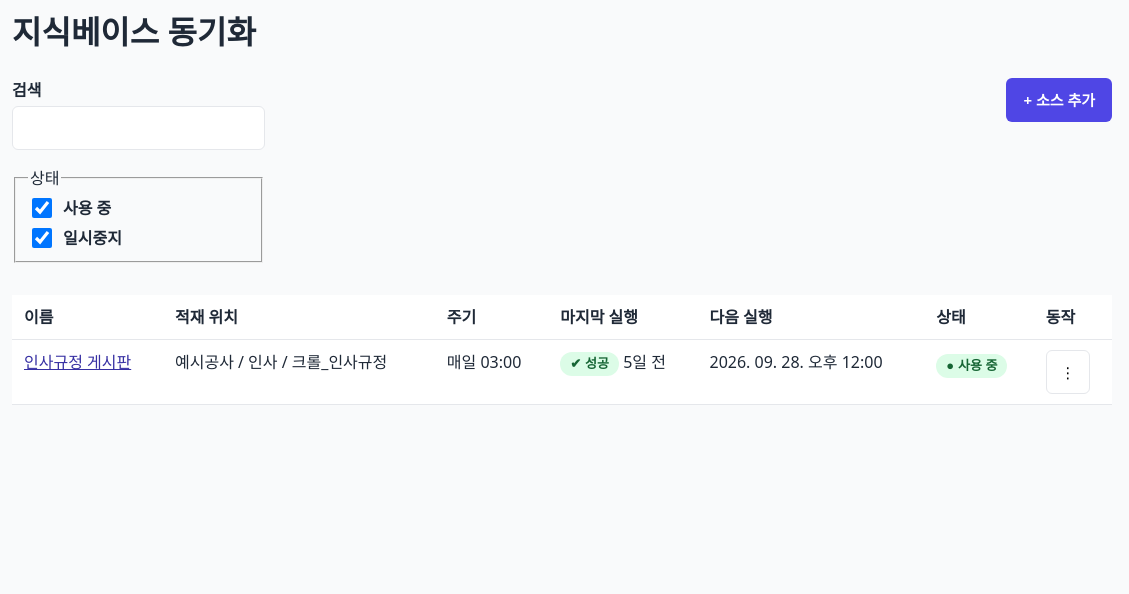
Test: KbSourcesPage › 실행 중인 소스(activeRun 있음)는 케밥 메뉴에서 삭제 항목이 비활성화된다
Click the button named "관리" at (1068, 372), box [1046,350,1090,394]
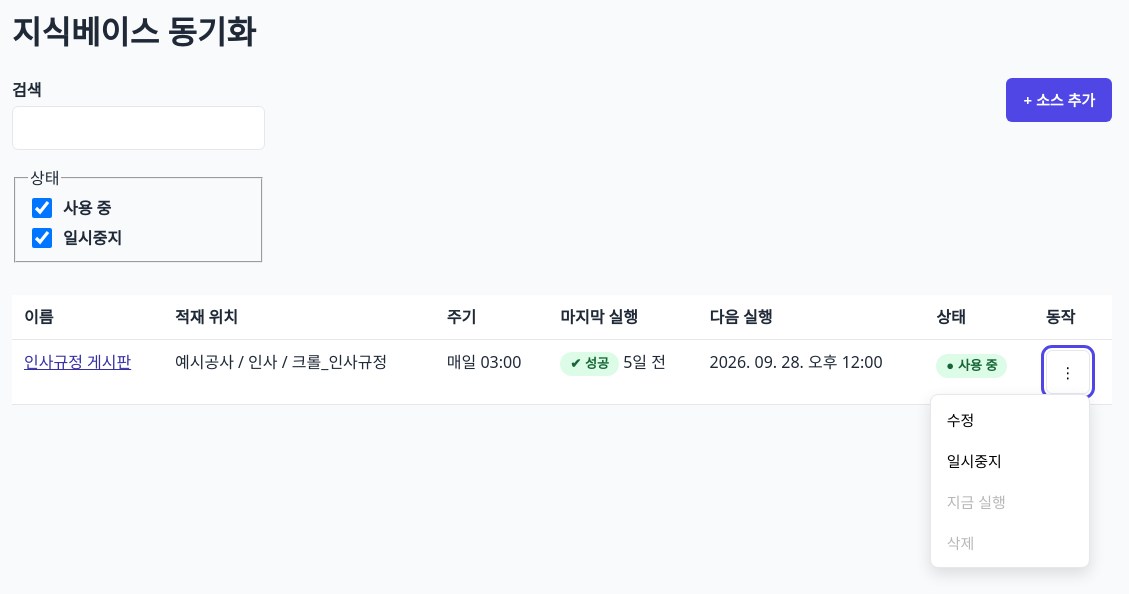
Now the menu item "삭제" is disabled, box [935,522,1085,564]
